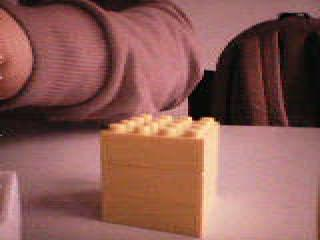legocube: (96, 112, 223, 240)
